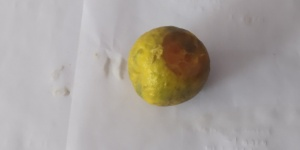BAD: (129, 26, 211, 107)
